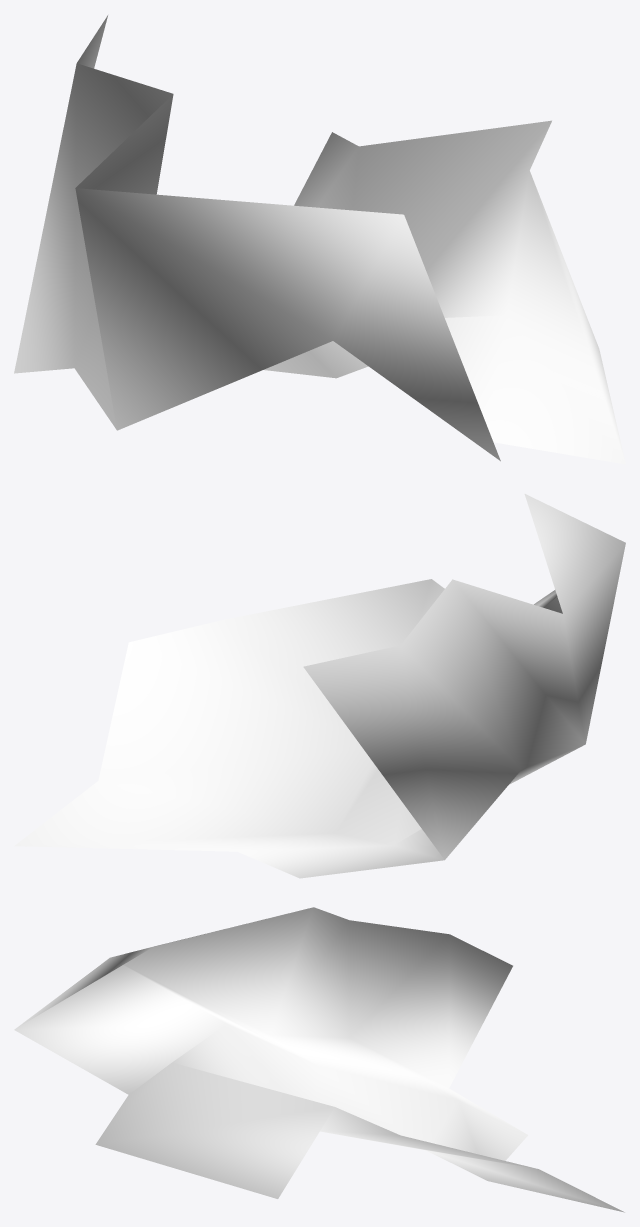
Rendered from crumpled notes.FBX.
3 renders of one model, top to bottom at view 1: azimuth 30°, elevation 25°; view 2: azimuth 150°, elevation 25°; view 3: azimuth 270°, elevation 25°, orthographic. The views are drawn at different scales.
Parts seen in each view (by area): view 1: Plane001; view 2: Plane001; view 3: Plane001.
Boxes of the visible parts, x1,y1,x2,y2 form: Plane001: [14, 15, 625, 464]; Plane001: [14, 494, 625, 878]; Plane001: [14, 907, 624, 1212].
Size of the model in its own units: 0.00957 by 0.0157 by 0.00585.
1 material, 1 textured.
